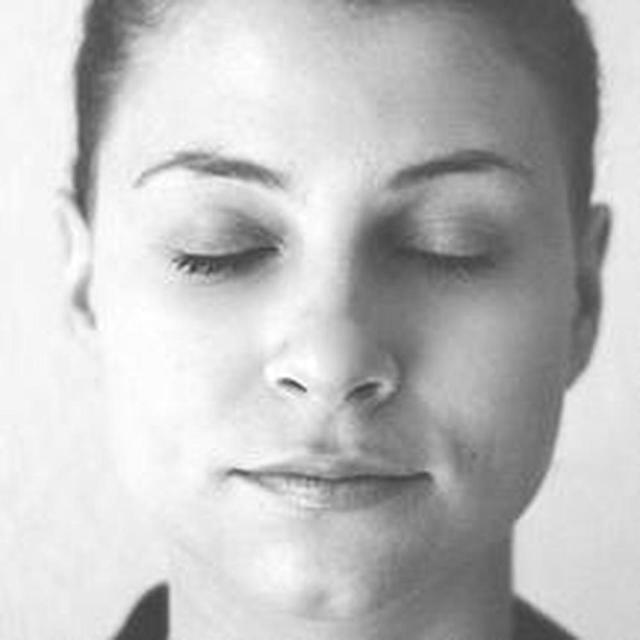real: (63, 12, 602, 622), (139, 204, 529, 297)
